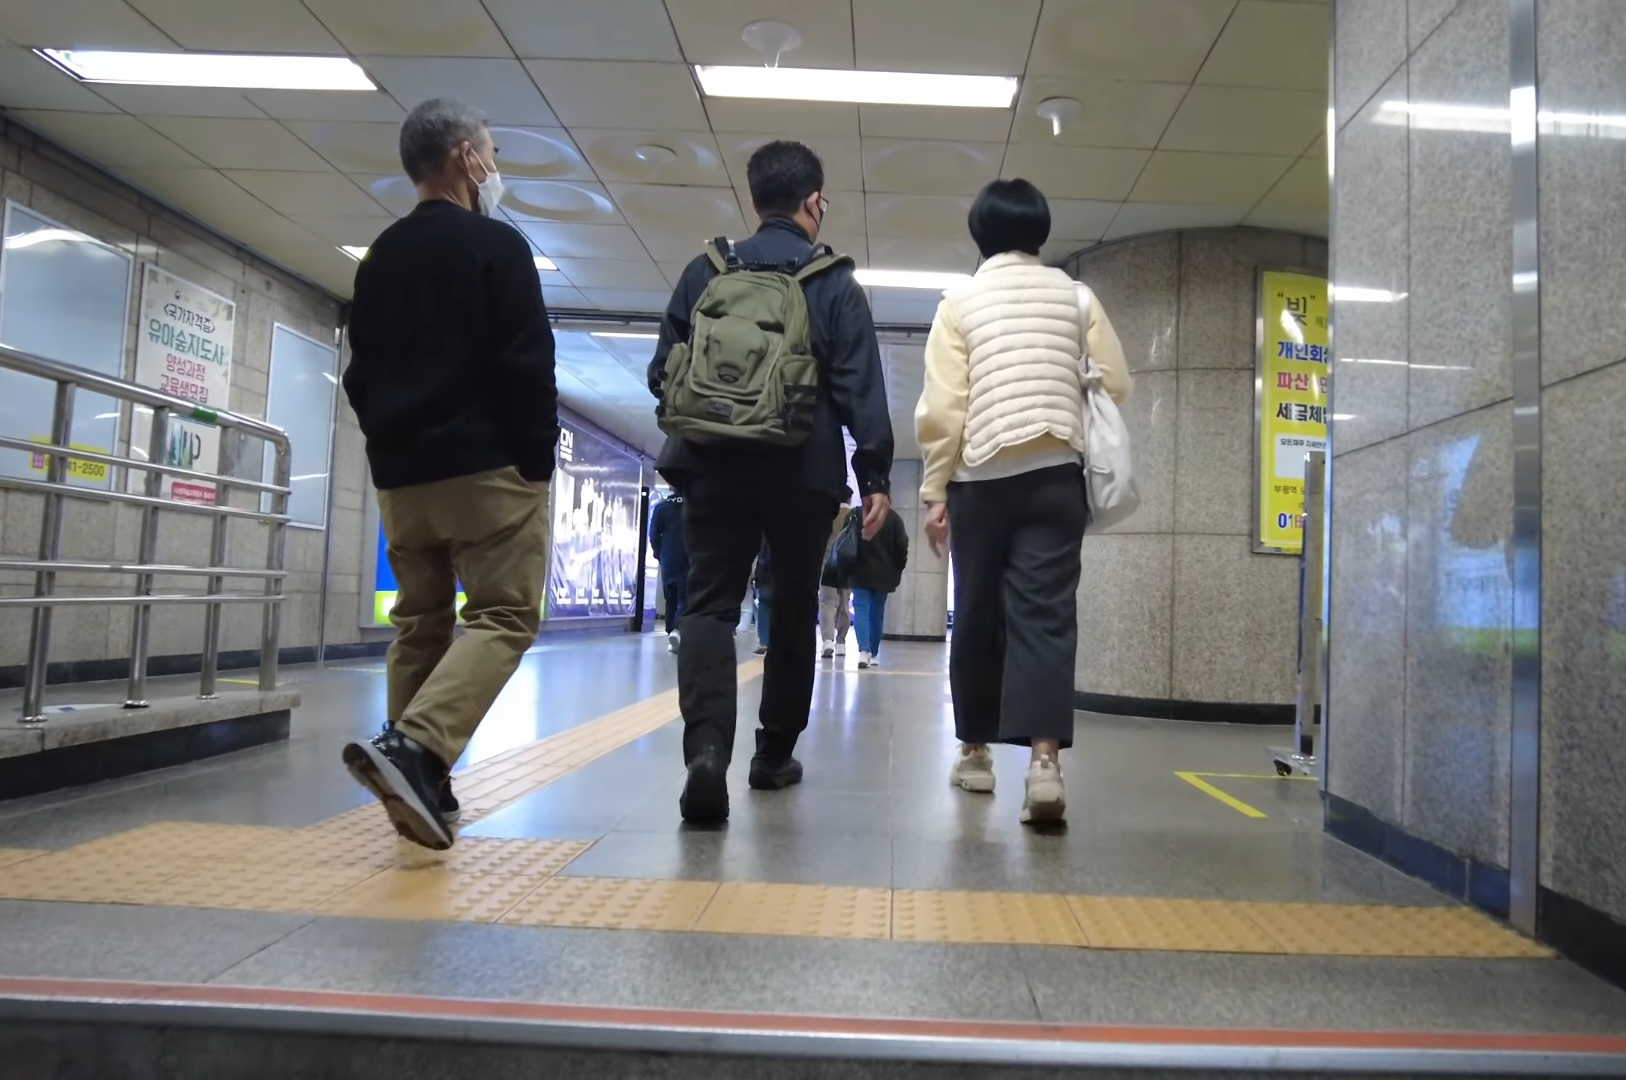warningBlock: (1254, 896, 1559, 961), (882, 881, 1105, 947), (1069, 882, 1272, 953), (544, 877, 739, 941), (710, 880, 903, 943), (45, 851, 239, 904), (215, 859, 371, 923), (366, 871, 546, 925)
